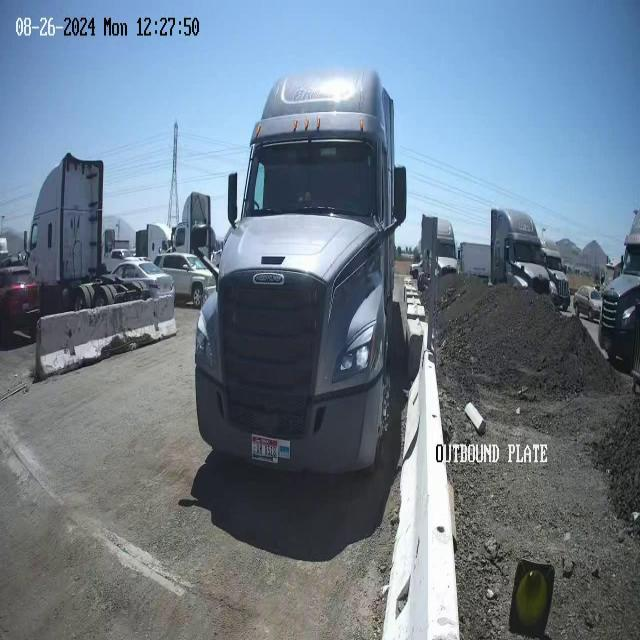TRUCK_OUT: (194, 66, 408, 478)
